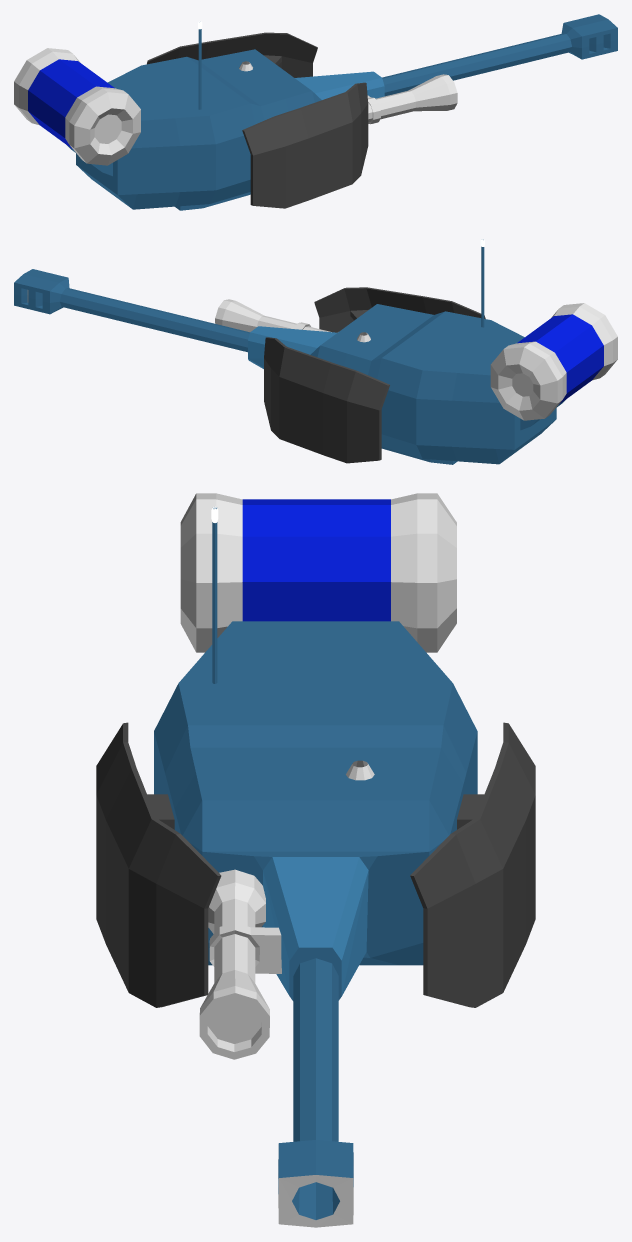
File: snipertower.fbx
3 renders of one model, top to bottom at view 1: azimuth 30°, elevation 25°; view 2: azimuth 150°, elevation 25°; view 3: azimuth 270°, elevation 25°, orthographic. The views are drawn at different scales.
Parts seen in each view (by area): view 1: Cube.001, Cylinder; view 2: Cube.001, Cylinder; view 3: Cube.001, Cylinder.
Boxes of the visible parts, x1=… form: Cube.001: x1=14, y1=21, x2=457, y2=210; Cylinder: x1=382, y1=14, x2=617, y2=96; Cube.001: x1=215, y1=239, x2=617, y2=464; Cylinder: x1=14, y1=269, x2=249, y2=352; Cube.001: x1=96, y1=493, x2=535, y2=1059; Cylinder: x1=278, y1=958, x2=353, y2=1227.
Size of the model in its own units: 354 by 116 by 119.
